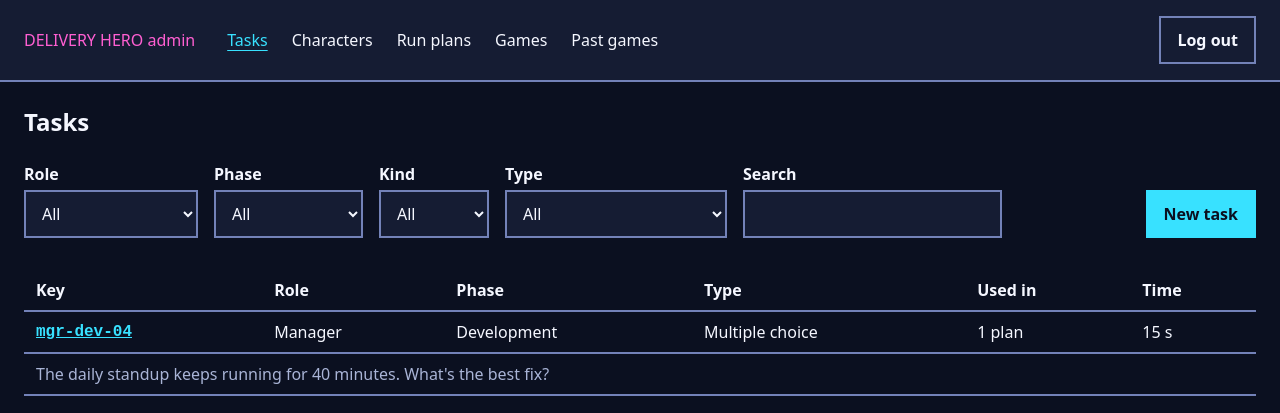
TaskLibraryScreen › says when no task matches the search
Expected: the row "mgr-dev-04 Manager Development Multiple choice 1 plan 15 s" is shown, [24,311,1256,353]
In the search field labelled "Search": (872, 214) [743,190,1002,238], type "nothing like it"
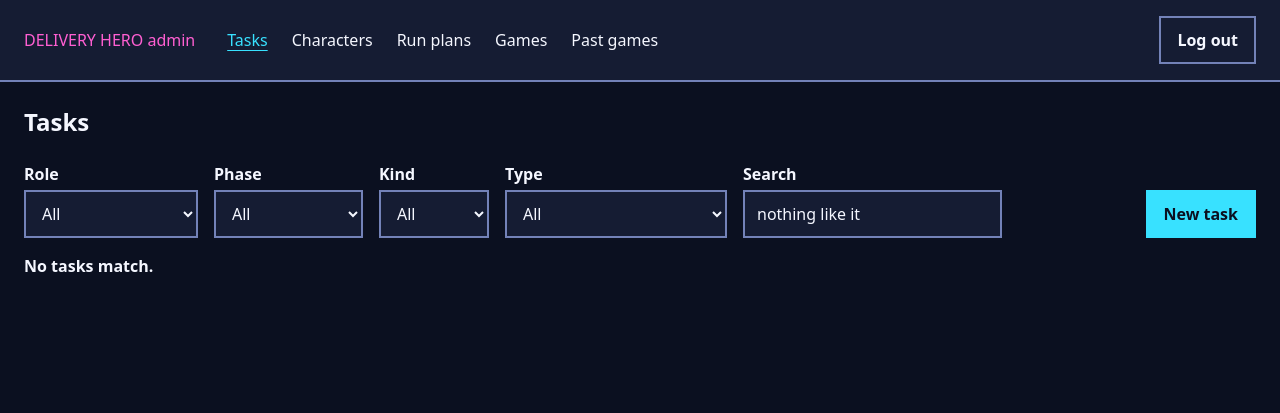
Expected: the text "No tasks match." is shown, [24,255,153,277]
